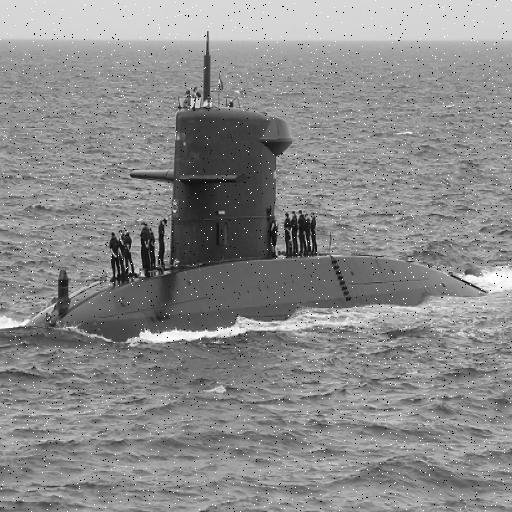submarine: (24, 35, 492, 335)
